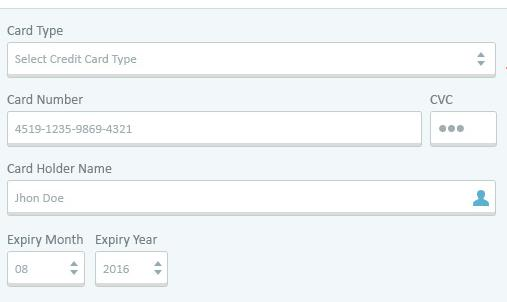field: (4, 178, 498, 217), (6, 40, 498, 78), (4, 108, 423, 148), (6, 250, 87, 288), (94, 250, 171, 288), (427, 108, 498, 148)
field_with_label: (2, 161, 501, 220), (4, 25, 500, 81), (2, 93, 425, 150), (2, 234, 89, 291), (93, 234, 173, 289), (427, 93, 500, 151)
